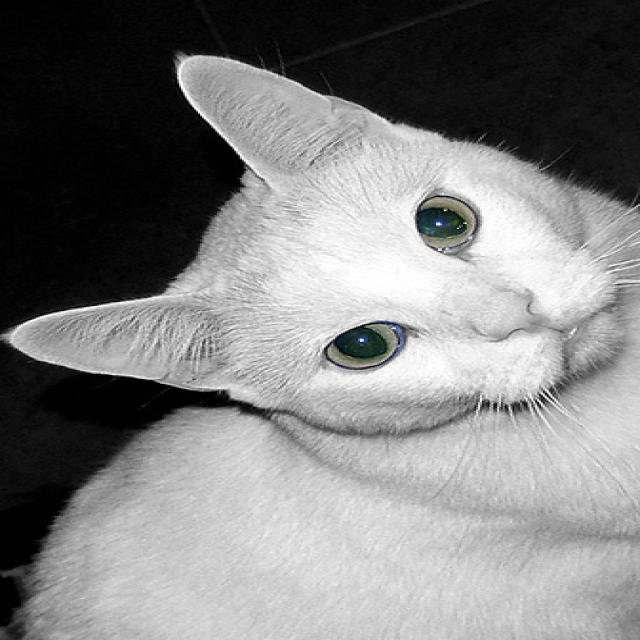left eye: (411, 192, 480, 253)
